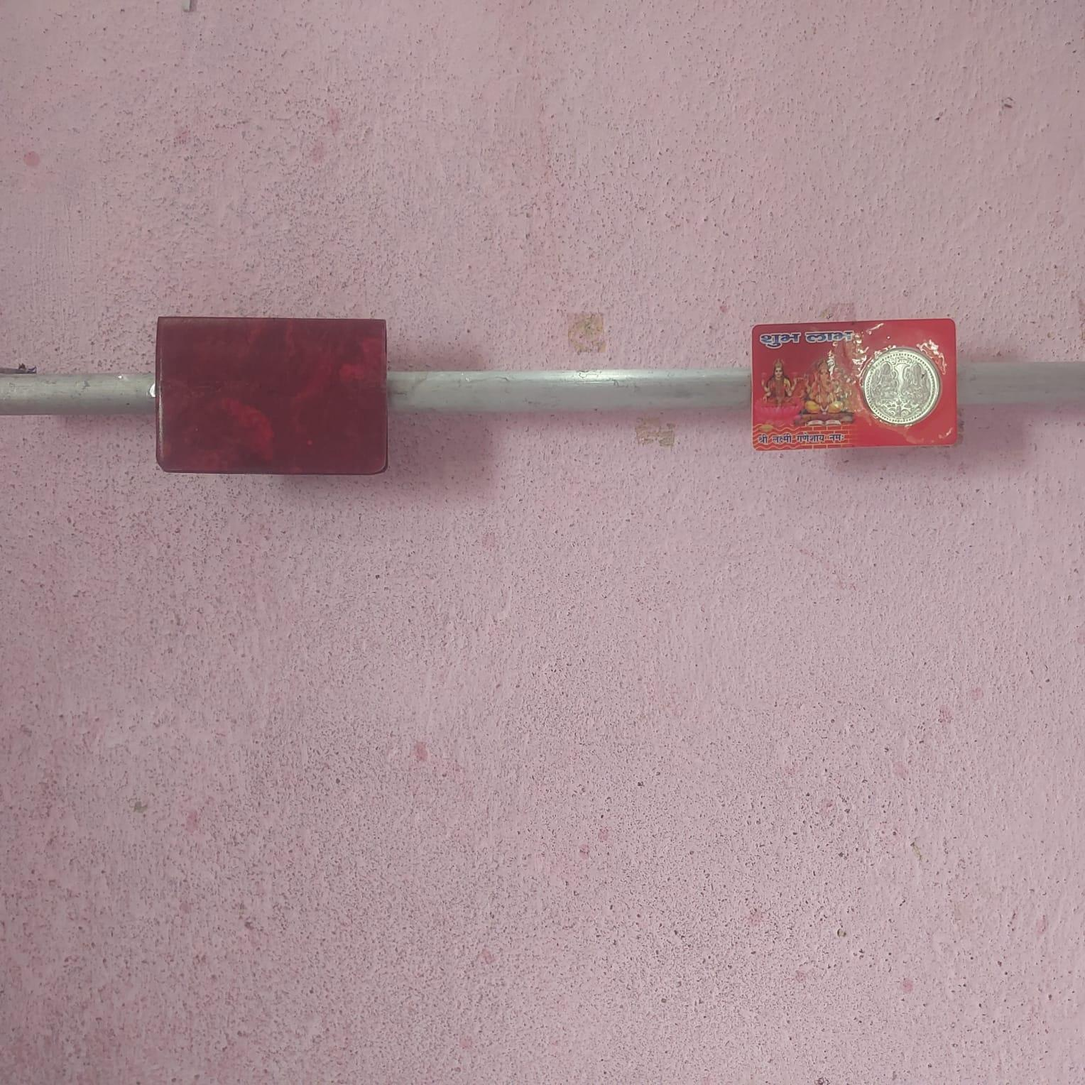blessing_card: (750, 314, 959, 449)
wallet: (160, 314, 395, 479)
